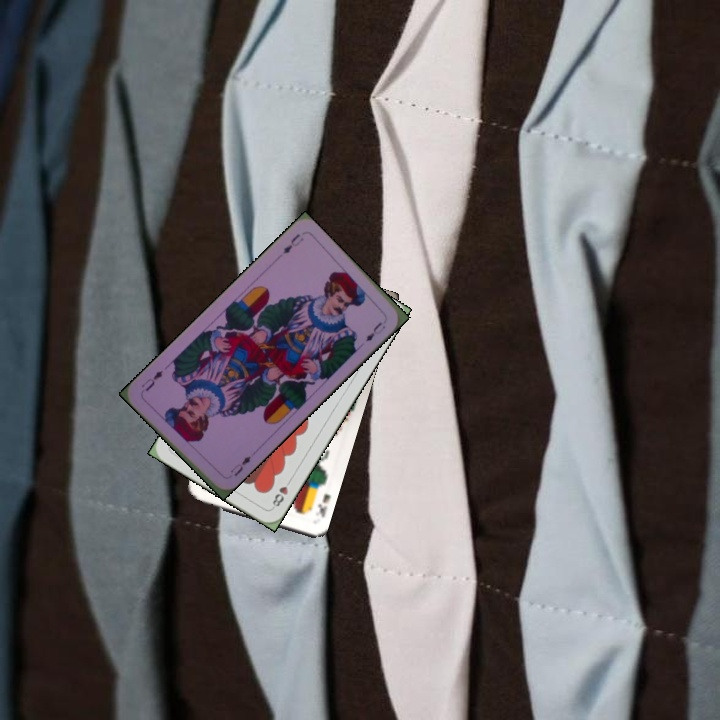EK: (313, 489, 333, 520)
EU: (279, 229, 307, 256), (226, 452, 253, 479)
H8: (268, 474, 294, 511)
